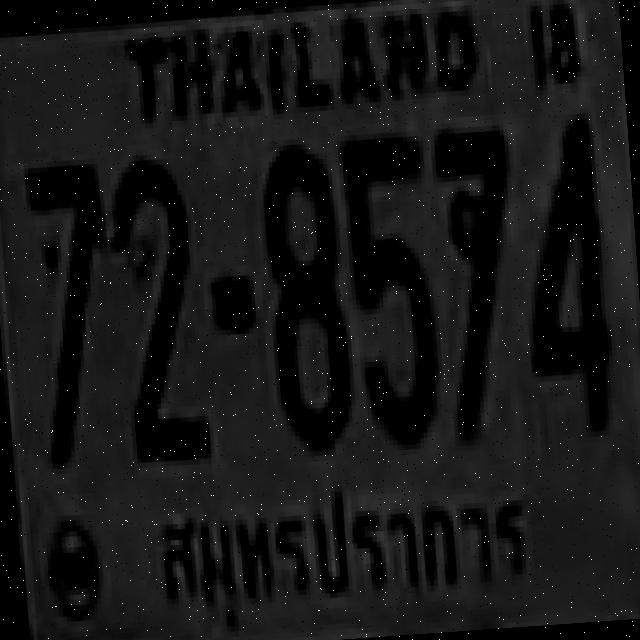2: (106, 154, 198, 423), (113, 189, 205, 458)
4: (510, 113, 613, 430)
5: (336, 130, 439, 442), (336, 128, 436, 387)
7: (21, 156, 116, 462), (22, 158, 112, 417)
8: (257, 136, 348, 448)
SamutPrakan: (145, 462, 550, 640)
